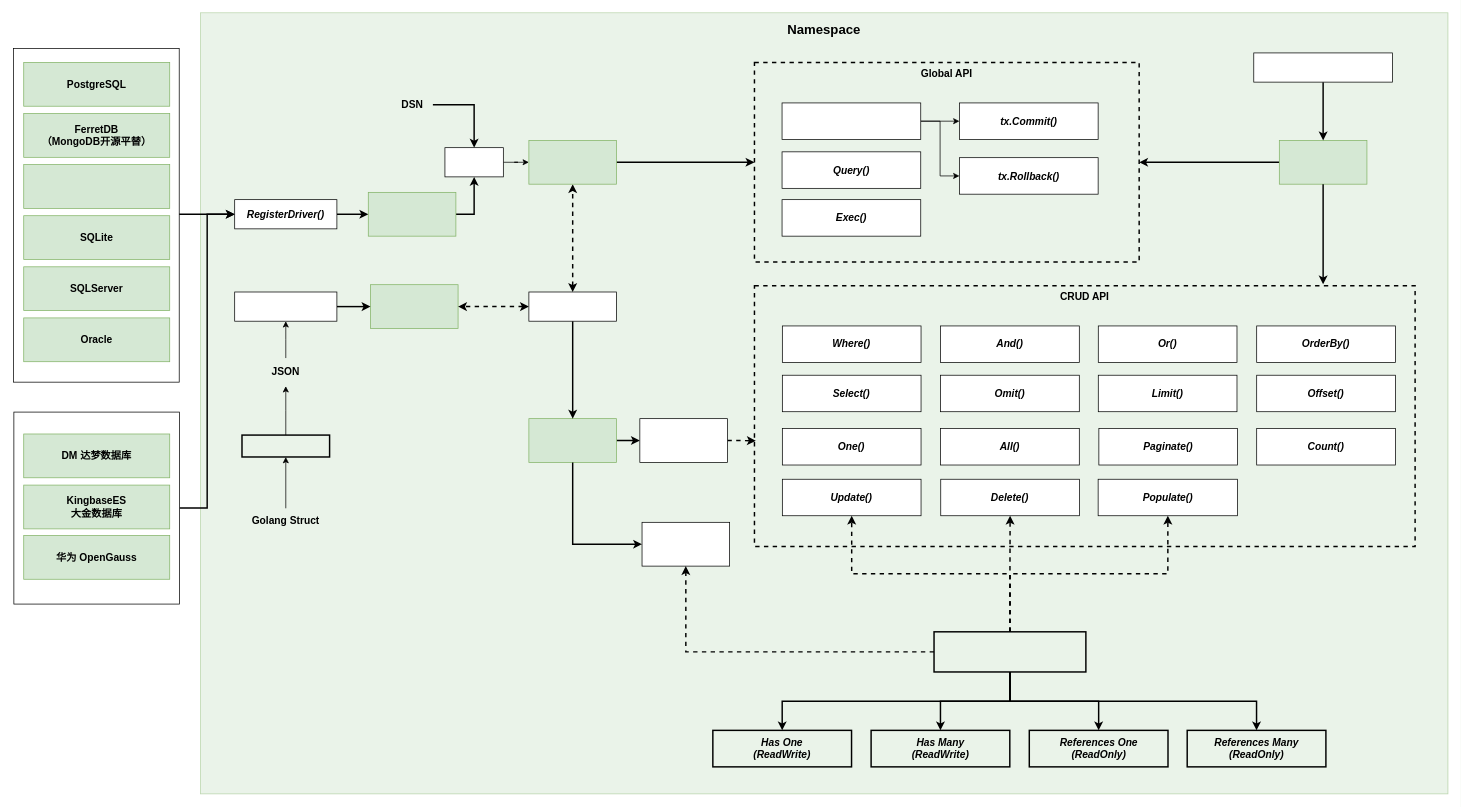
This 1461x807 diagram has some shape labels left out. Each missing label, with the centre of its shape:
Associations read write: point 1009,651
Begin(): point 851,120
Connect(): point 473,162
Connection: point 572,162
Create(): point 685,544
DataModel: point 572,440
Driver: point 412,214
Find(): point 683,440
Middleware: point 1323,162
Model(): point 572,306
MySQL: point 96,186
parseStruct(): point 285,445
RegisterMiddleware(): point 1322,67
RegisterSchema(): point 285,306
Schema: point 414,306
